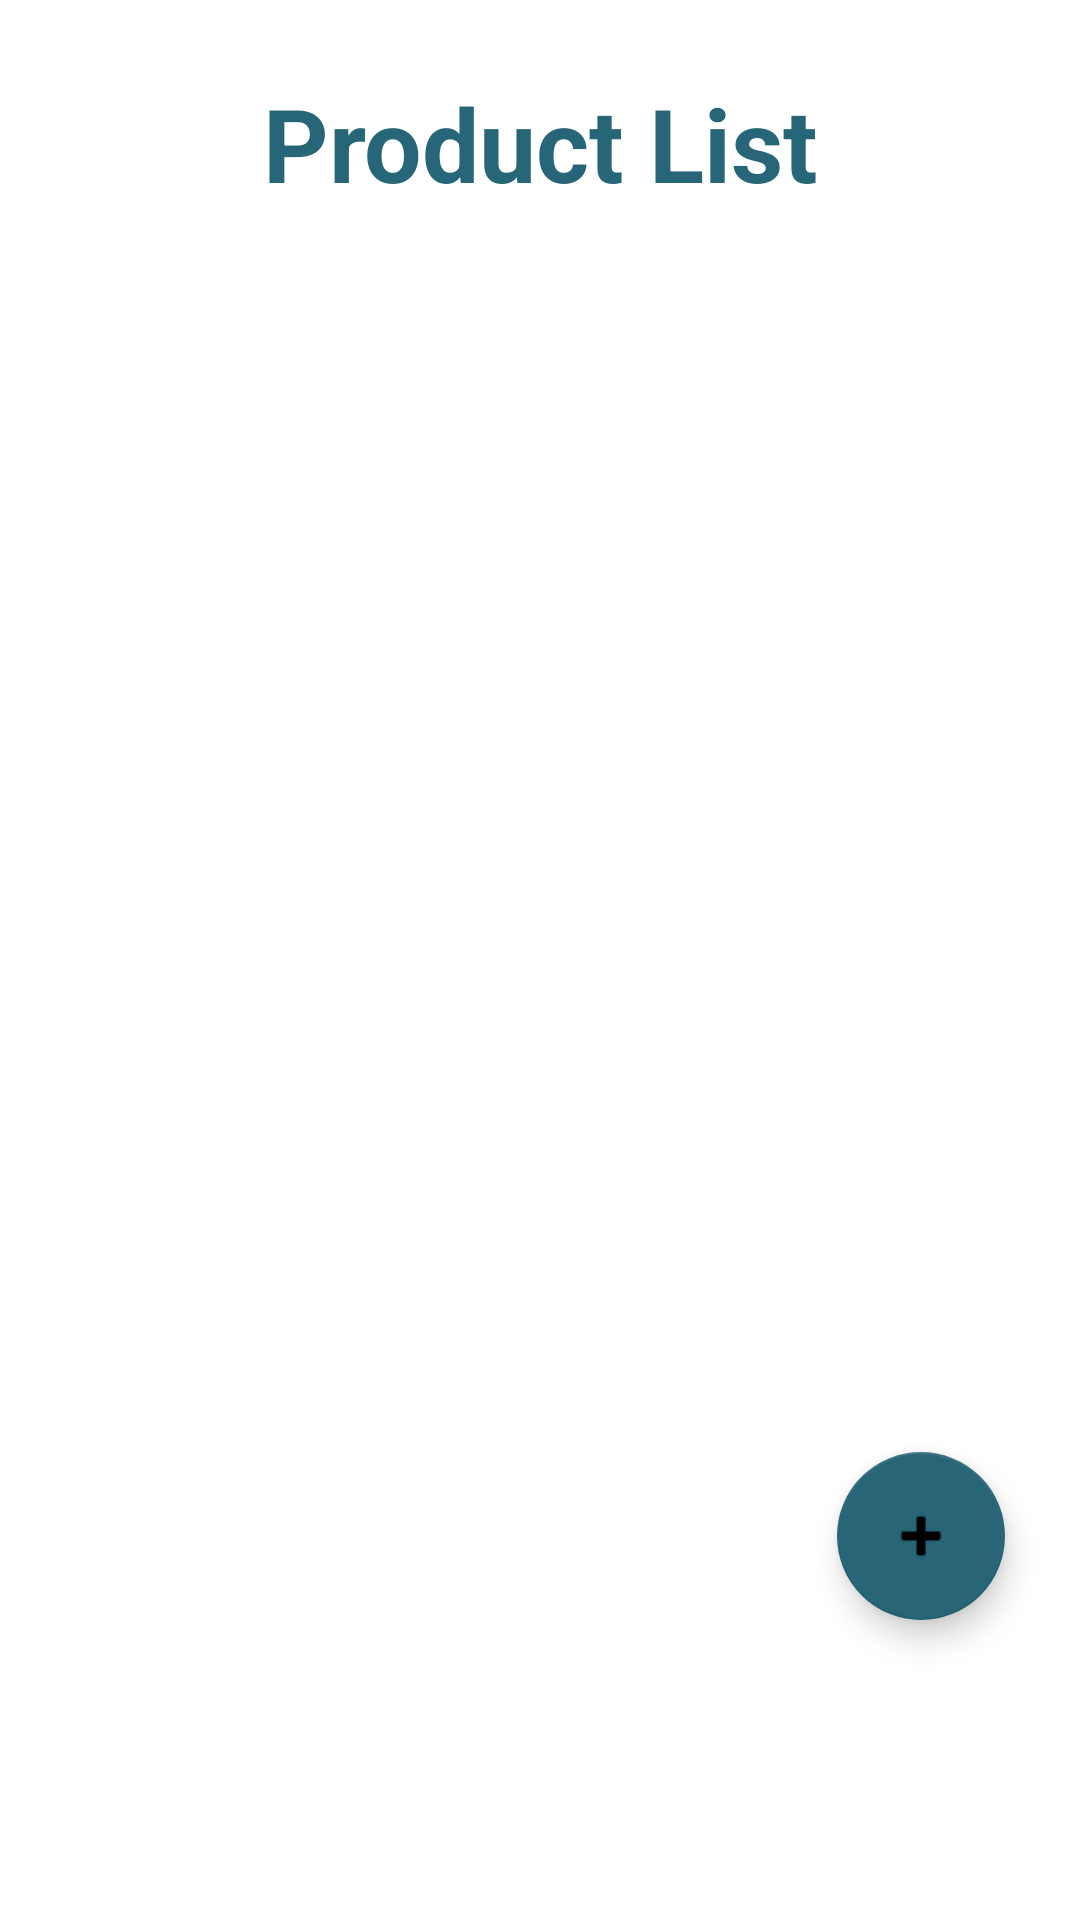

Where to tap for icons on this 1080px x 1920px app screen, as (x,y):
Tambah: (921,1536)
